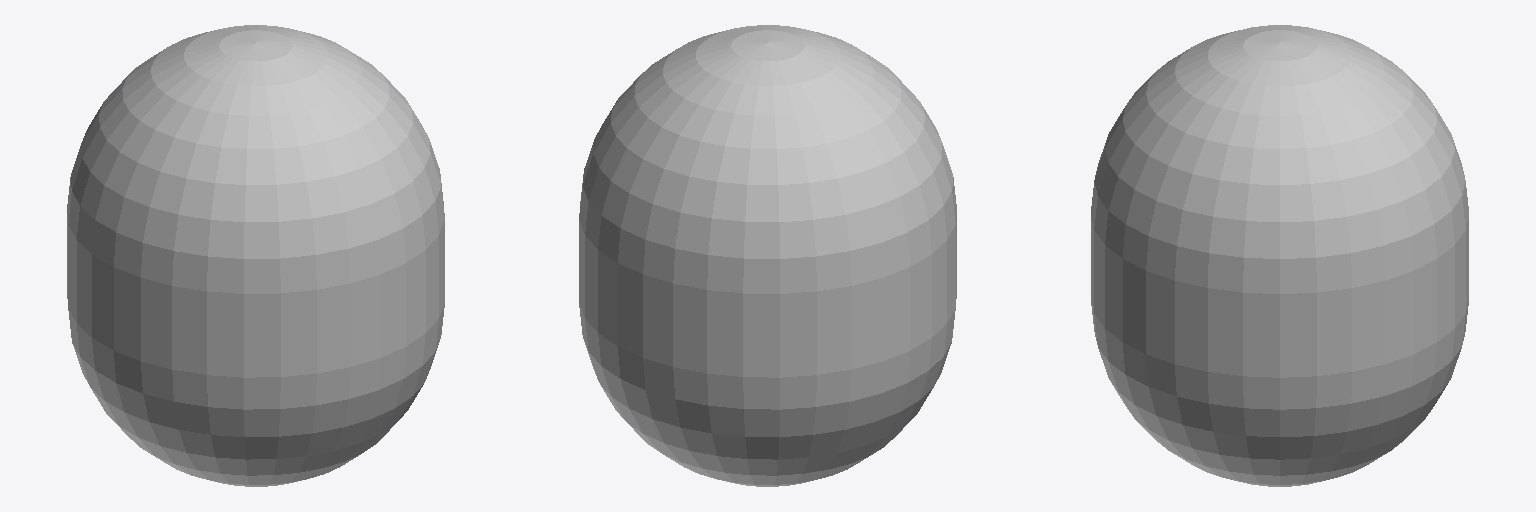
The model's file is hair.obj.
3 renders of one model, left to right at view 1: azimuth 30°, elevation 25°; view 2: azimuth 150°, elevation 25°; view 3: azimuth 270°, elevation 25°, orthographic.
Visible parts, largest first — view 1: Hair; view 2: Hair; view 3: Hair.
Part boxes in pixels (x1,y1,x2,y2): Hair: (67,25,444,486); Hair: (579,25,956,486); Hair: (1091,25,1468,486).
Size of the model in its own units: 2.02 by 2.51 by 2.02.